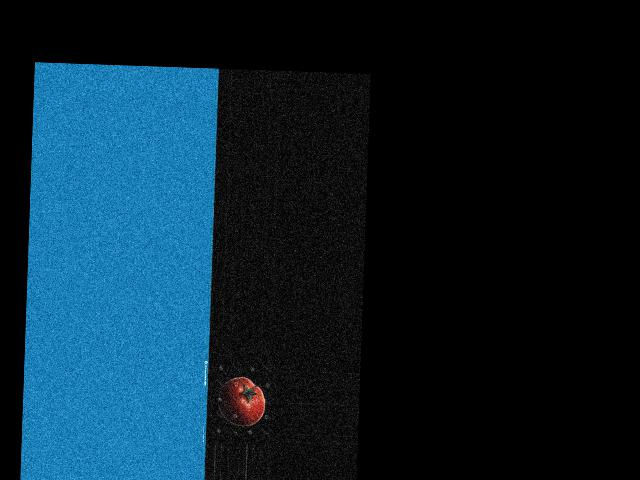tomato: (217, 376, 265, 427)
